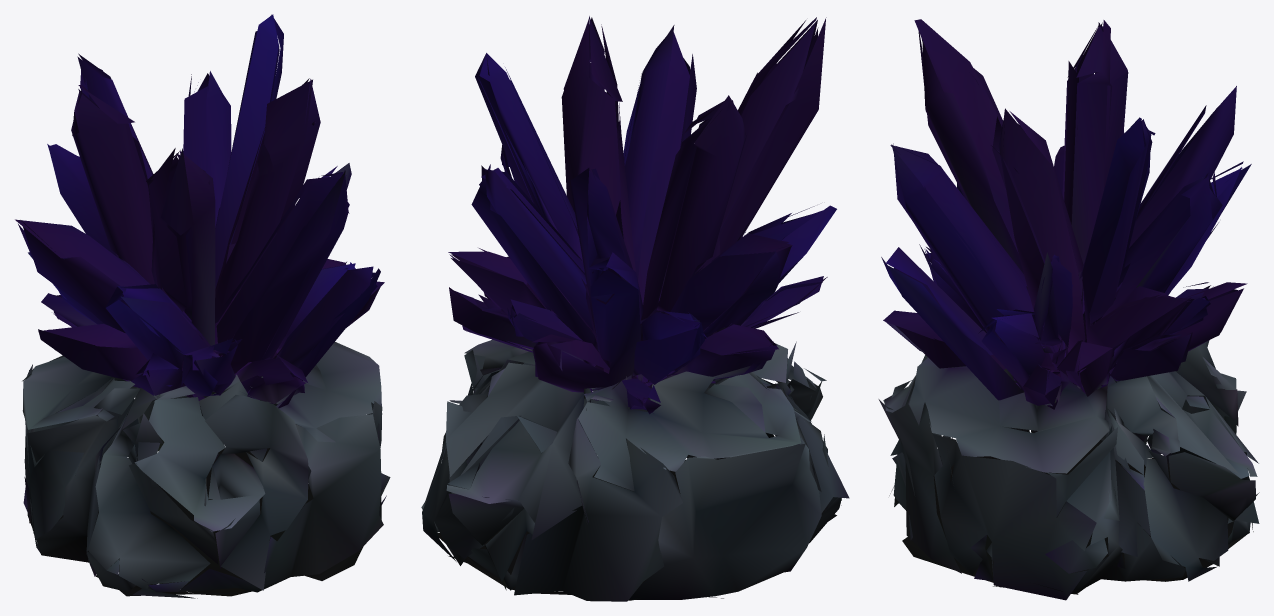
File: crystal.glb
3 views of the same model, side by side, from view 1: azimuth 30°, elevation 25°; view 2: azimuth 150°, elevation 25°; view 3: azimuth 270°, elevation 25° (orthographic). The views are drawn at different scales.
Visible parts, largest first — view 1: geometry_0; view 2: geometry_0; view 3: geometry_0.
Part boxes in pixels (x1=…): geometry_0: x1=15, y1=14, x2=390, y2=598; geometry_0: x1=421, y1=16, x2=849, y2=601; geometry_0: x1=878, y1=19, x2=1259, y2=600.
Size of the model in its own units: 23.43 by 30.46 by 22.68.
